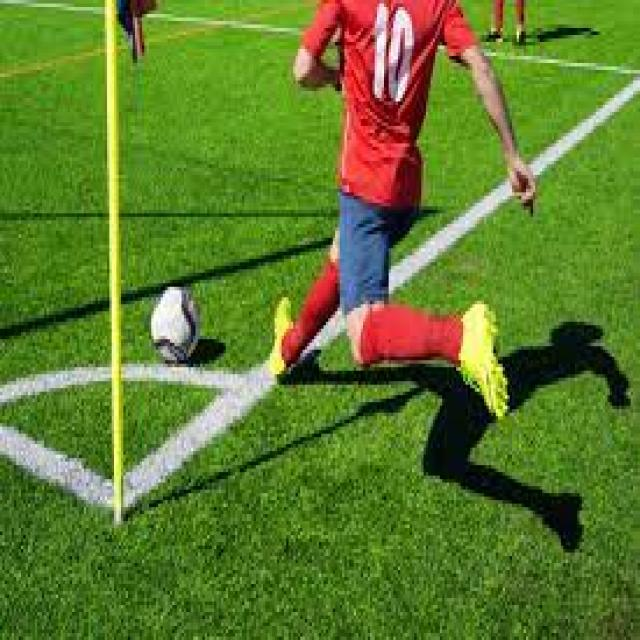corner-kick: (0, 0, 273, 511)
